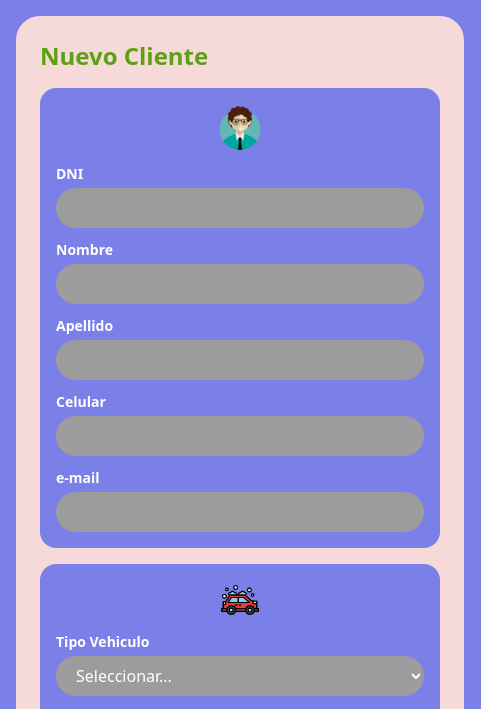
Test case: NuevoClientePage › Nombre y Apellido aceptan solo letras (con acentos y ñ)
The width and height of the screenshot is (481, 709).
Check: the heading "Nuevo Cliente" is shown, box left=40, top=39, right=208, bottom=72
In the field labelled "Nombre": (240, 284) left=56, top=264, right=424, bottom=304, type "Muñoz1"
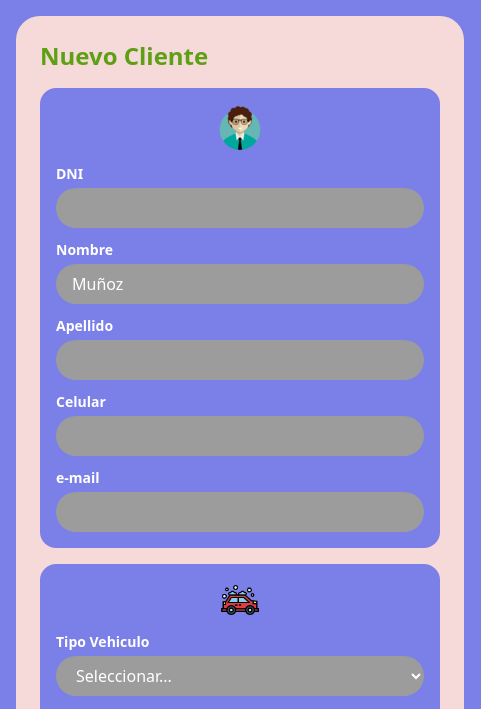
In the field labelled "Apellido": (240, 360) left=56, top=340, right=424, bottom=380, type "Pérez2"
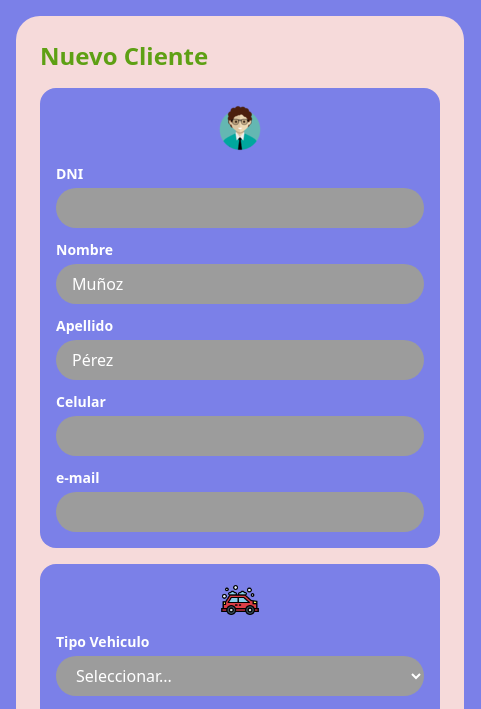
Check: the field labelled "Nombre" holds "Muñoz", box left=56, top=264, right=424, bottom=304
Check: the field labelled "Apellido" holds "Pérez", box left=56, top=340, right=424, bottom=380
